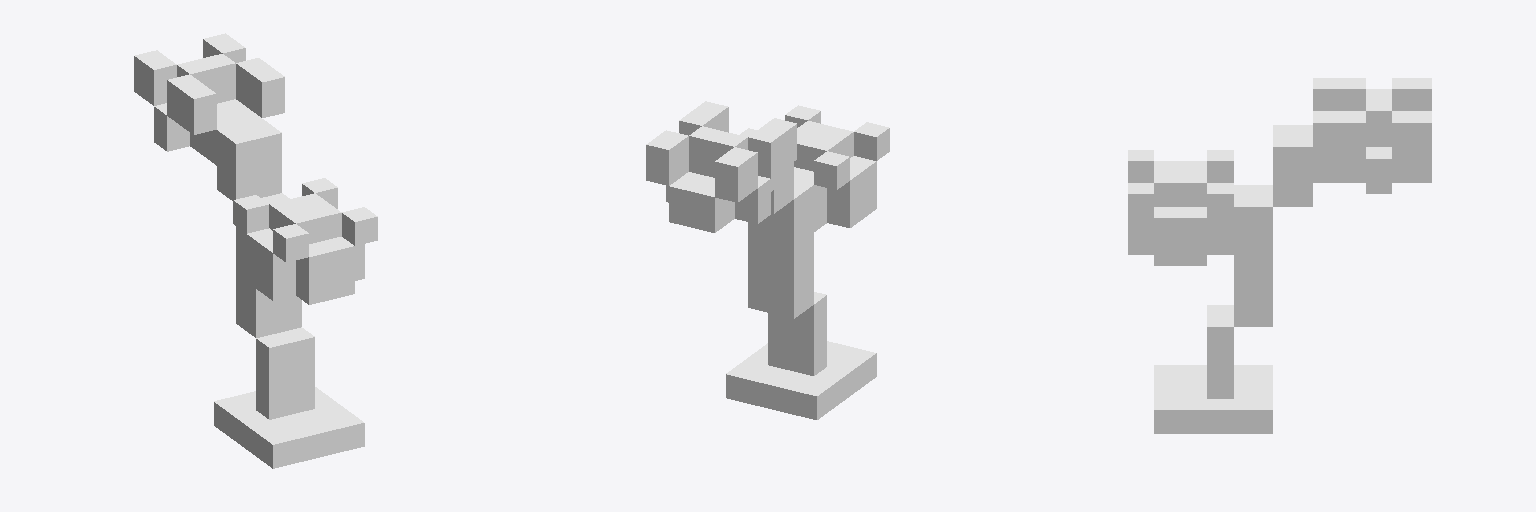
File: FlowerNormalMini.obj
3 renders of one model, left to right at view 1: azimuth 30°, elevation 25°; view 2: azimuth 150°, elevation 25°; view 3: azimuth 270°, elevation 25°, orthographic.
Visible parts, largest first — view 1: object 1; view 2: object 1; view 3: object 1.
Part boxes in pixels (bbox=[...]): object 1: bbox=[134, 33, 377, 468]; object 1: bbox=[646, 101, 889, 419]; object 1: bbox=[1128, 78, 1431, 433].
Size of the model in its own units: 0.8 by 2.6 by 2.3.